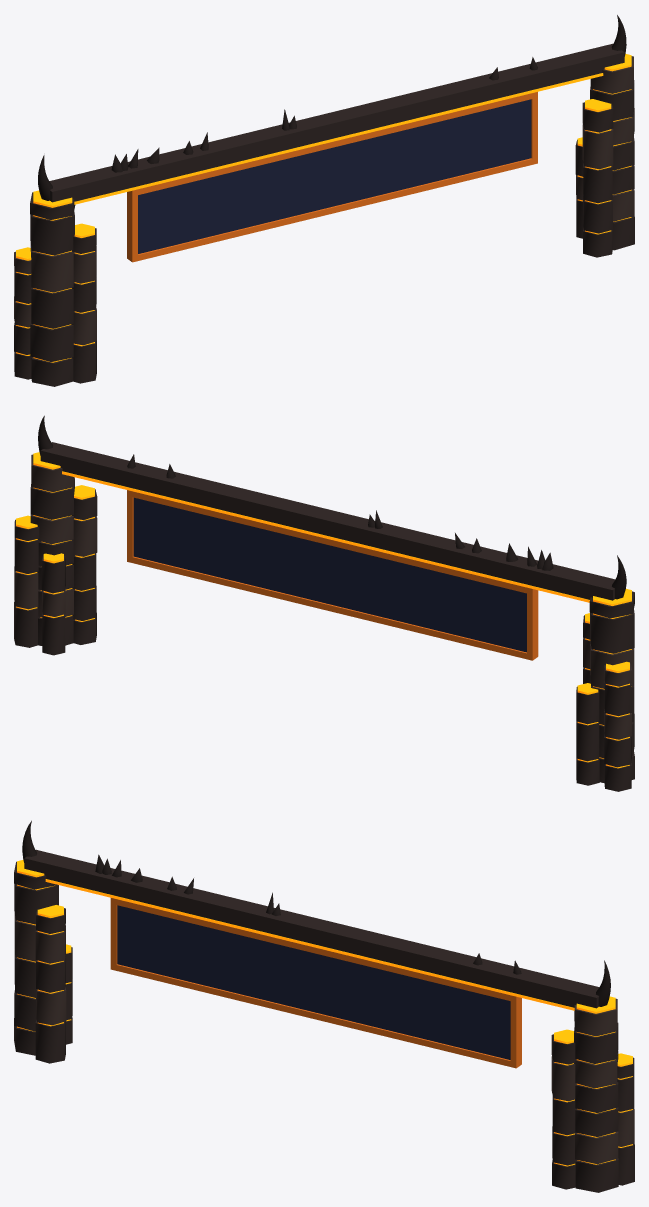
Rendered from ZoneArch_Lava.glb.
3 views of the same model, one above another, from view 1: azimuth 30°, elevation 25°; view 2: azimuth 150°, elevation 25°; view 3: azimuth 330°, elevation 25° (orthographic).
Visible parts, largest first — view 1: Basalt, SignPanel, BasaltLight, SignFrame, Magma, Horns; view 2: Basalt, SignPanel, SignFrame, BasaltLight, Magma, Horns; view 3: Basalt, SignPanel, BasaltLight, SignFrame, Magma, Horns.
Boxes of the visible parts, bbox=[...] form: Basalt: bbox=[14, 43, 634, 386]; SignPanel: bbox=[138, 99, 531, 253]; BasaltLight: bbox=[14, 56, 634, 345]; SignFrame: bbox=[127, 92, 537, 262]; Magma: bbox=[16, 53, 631, 362]; Horns: bbox=[38, 15, 626, 200]; Basalt: bbox=[14, 442, 634, 791]; SignPanel: bbox=[133, 497, 526, 652]; SignFrame: bbox=[127, 490, 538, 660]; BasaltLight: bbox=[14, 454, 634, 739]; Magma: bbox=[16, 452, 631, 768]; Horns: bbox=[38, 415, 626, 599]; Basalt: bbox=[14, 849, 634, 1192]; SignPanel: bbox=[117, 905, 510, 1059]; BasaltLight: bbox=[14, 914, 634, 1164]; SignFrame: bbox=[110, 898, 521, 1068]; Magma: bbox=[17, 860, 632, 1166]; Horns: bbox=[22, 820, 610, 1006].
Size of the model in its own units: 97 by 33.5 by 8.94.
